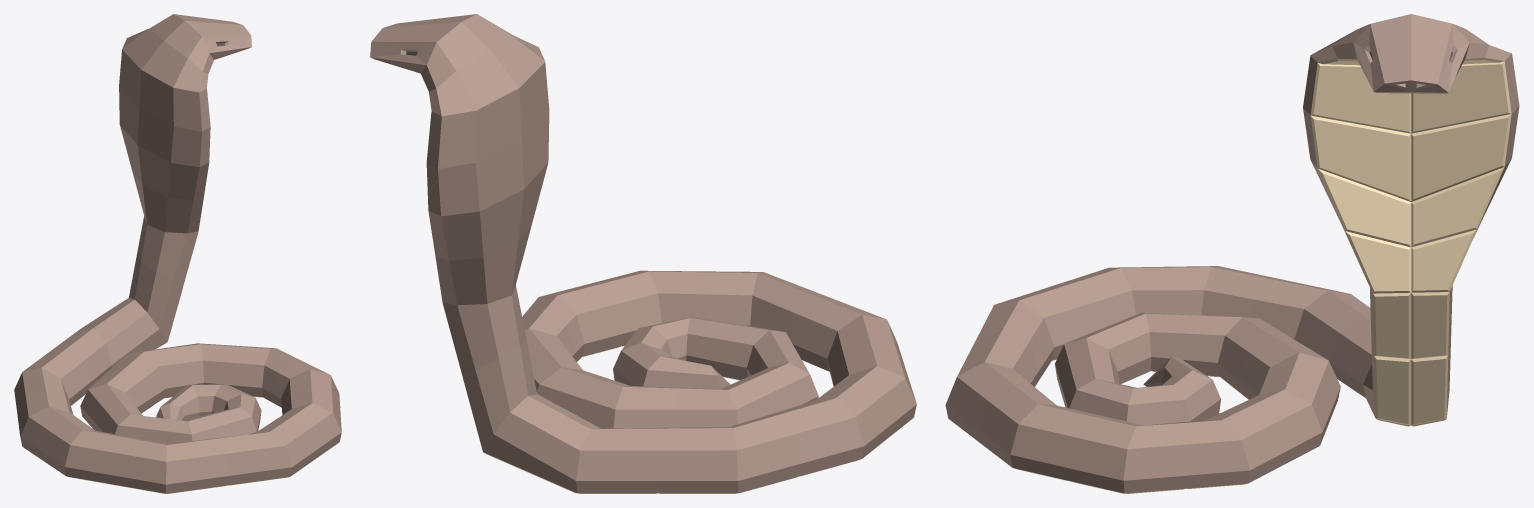
File: Snake_01.gltf
3 renders of one model, left to right at view 1: azimuth 30°, elevation 25°; view 2: azimuth 150°, elevation 25°; view 3: azimuth 270°, elevation 25°, orthographic. The views are drawn at different scales.
Parts seen in each view (by area): view 1: node-0; view 2: node-0; view 3: node-0.
Part boxes in pixels (x1,y1,x2,y2): node-0: [14, 14, 341, 493]; node-0: [370, 14, 916, 493]; node-0: [945, 14, 1519, 493].
Size of the model in its own units: 9.46 by 9.96 by 11.59.
